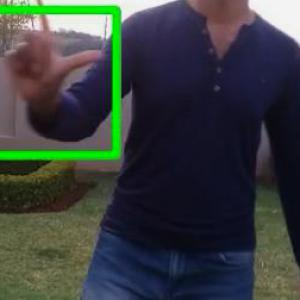land_hand: (0, 0, 109, 110)
